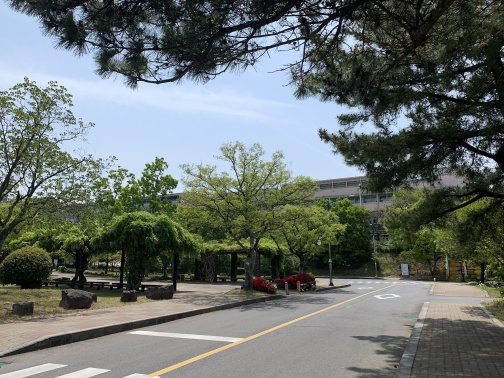College Of Education: (247, 160, 475, 241)
